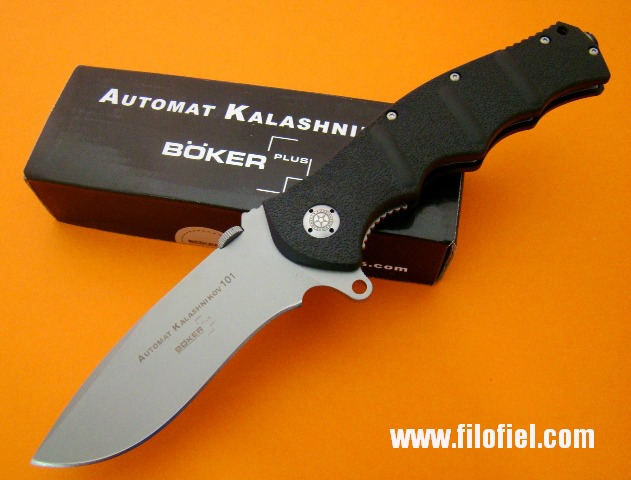knife: (25, 210, 320, 476)
